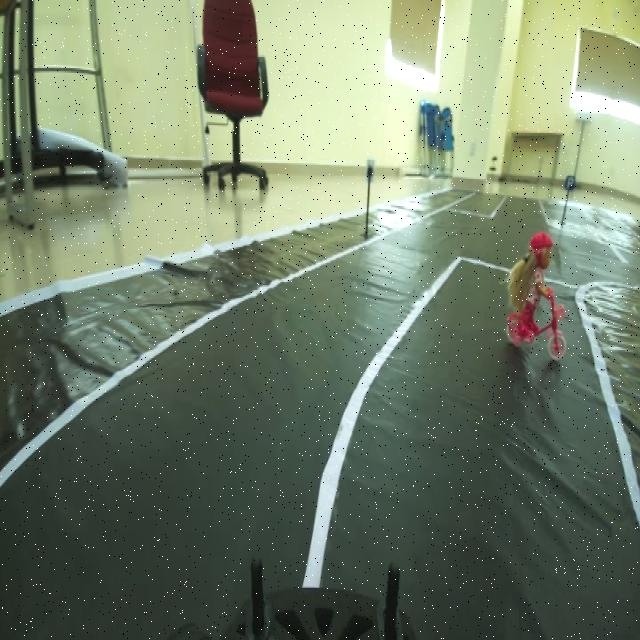pedestrian: (504, 212, 572, 366)
